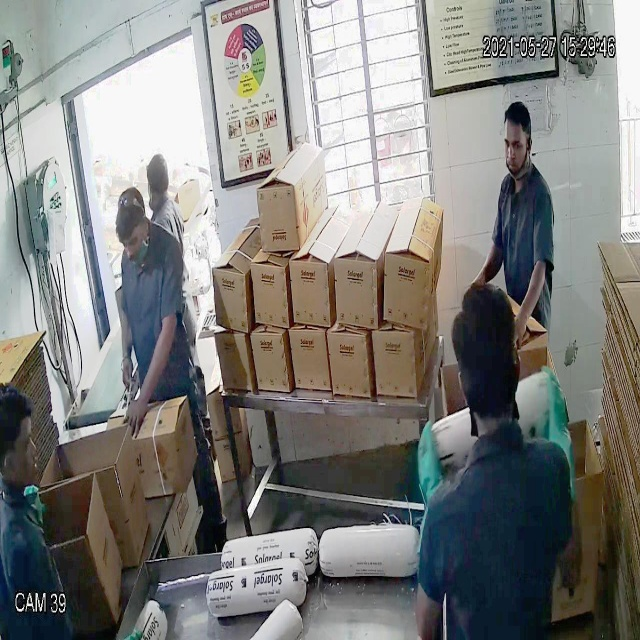Sin_gafas: (499, 131, 535, 160)
